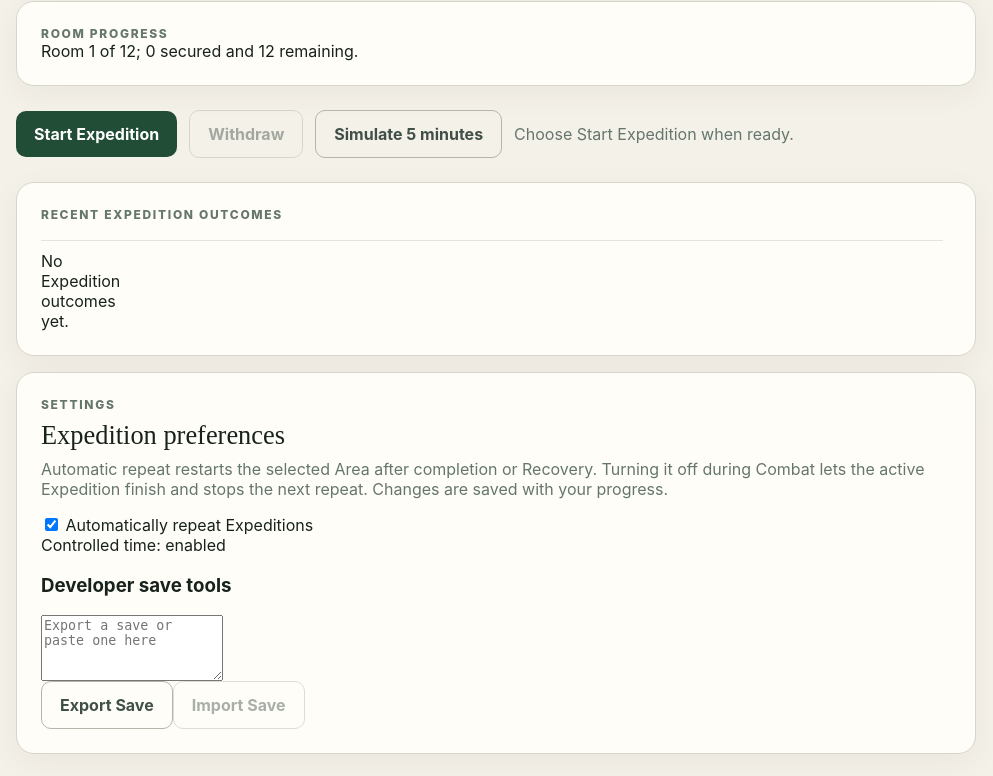
Test: playable browser shell › offers a repeatable five-minute testing advance
The width and height of the screenshot is (993, 776).
(page scrolled)
Click the checkbox labelled "Automatically repeat Expeditions" at coordinates (52, 524), box 45,518 -> 58,531
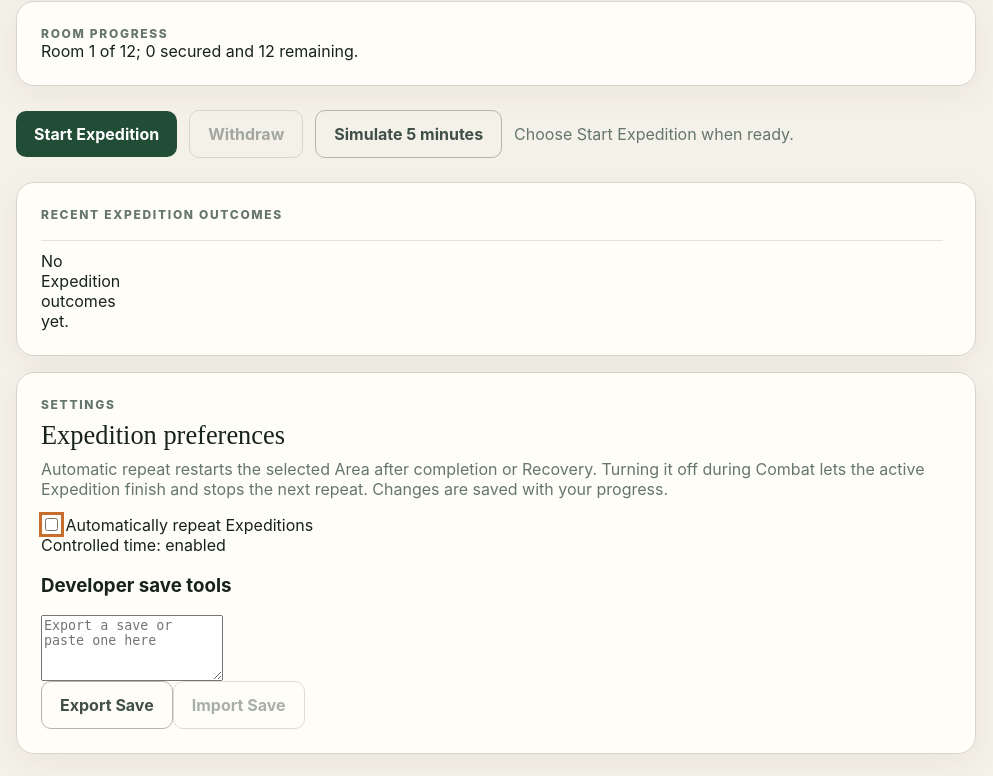
Click the button "Simulate 5 minutes" at coordinates (409, 134), box 315,110 -> 502,158
(page scrolled)
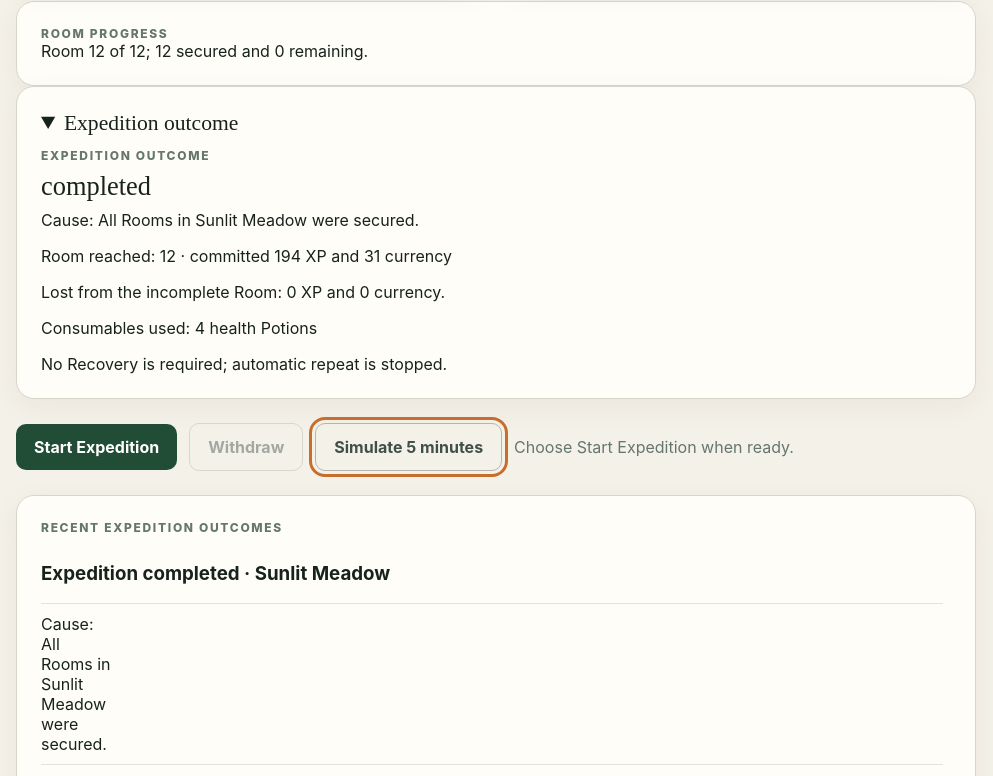
Click the button "Simulate 5 minutes" at coordinates (409, 447), box 315,423 -> 502,471
(page scrolled)
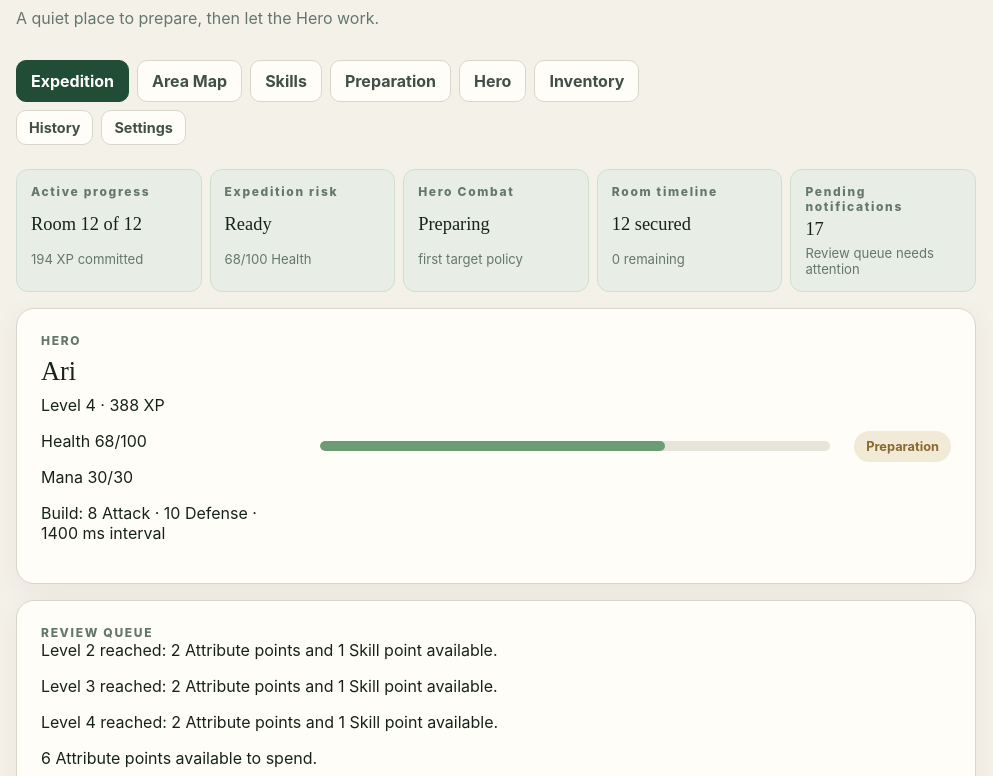
Check: the text "Level 4 · 388 XP" is shown, box 41,395 -> 165,415
